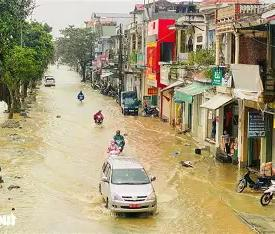ROAD_FLOODING: (2, 77, 272, 233)
